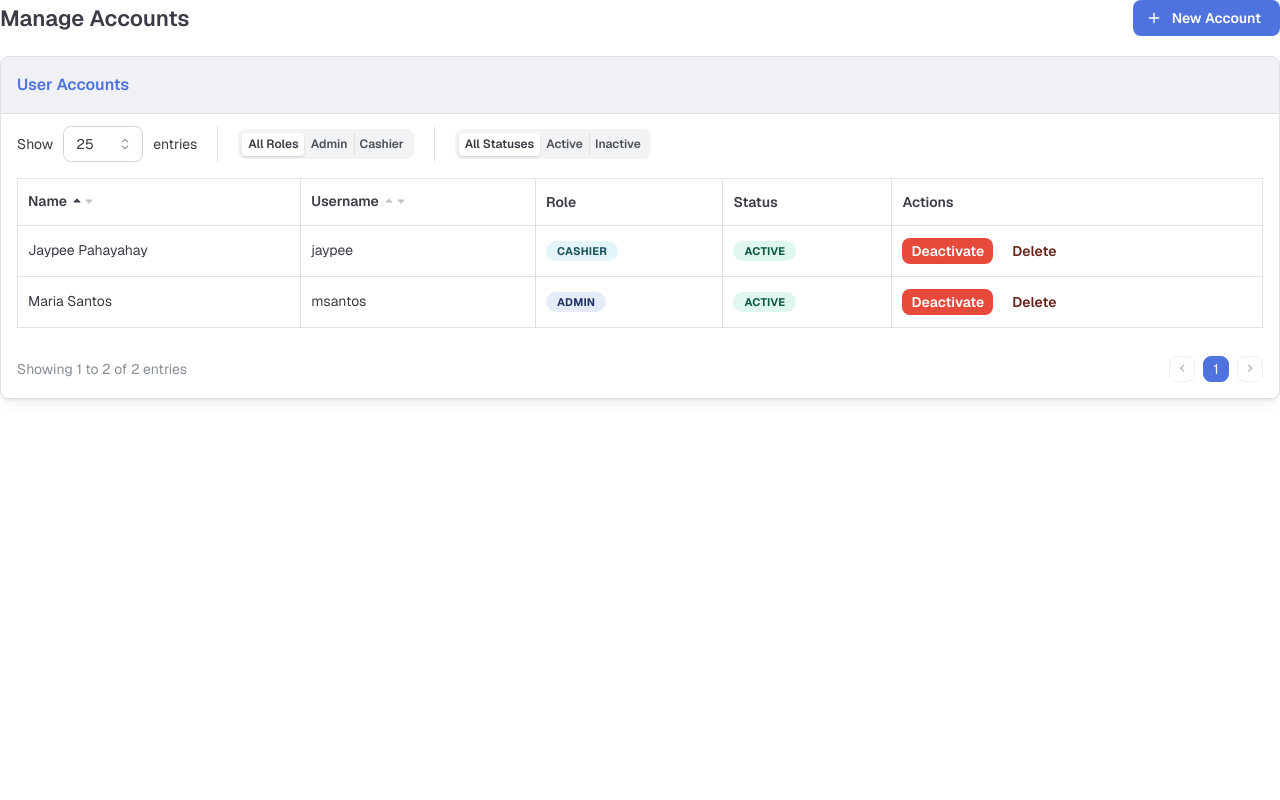
ManageAccountsPage › creates an account with the values entered and shows it in the list
The image size is (1280, 800).
Check: the text "Jaypee Pahayahay" is shown, box 18,225 -> 301,276
Click the button "New Account" at (1206, 18), box 1133,0 -> 1279,36
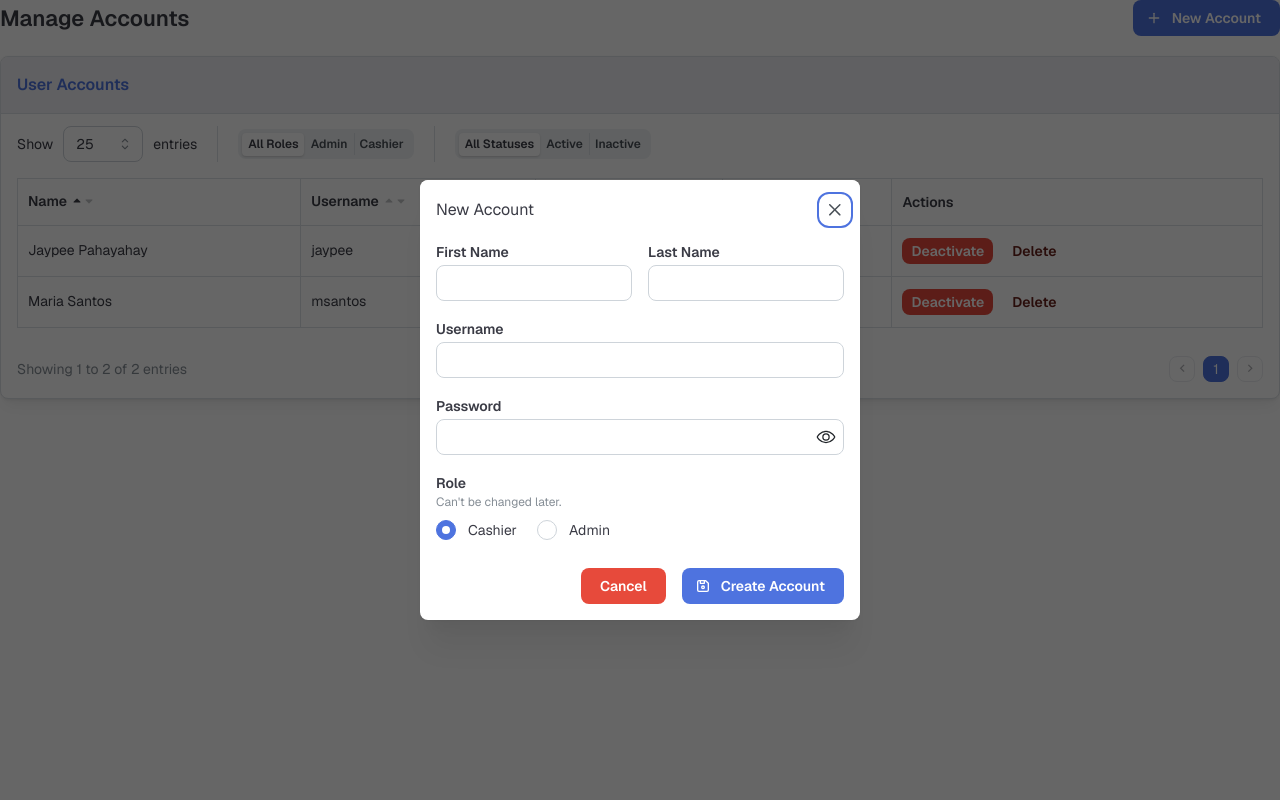
Check: the field labelled "First Name" is shown
Type "Ana" into the field labelled "First Name" at (534, 283), box 436,265 -> 632,301
Type "Reyes" into the field labelled "Last Name" at (746, 283), box 648,265 -> 844,301
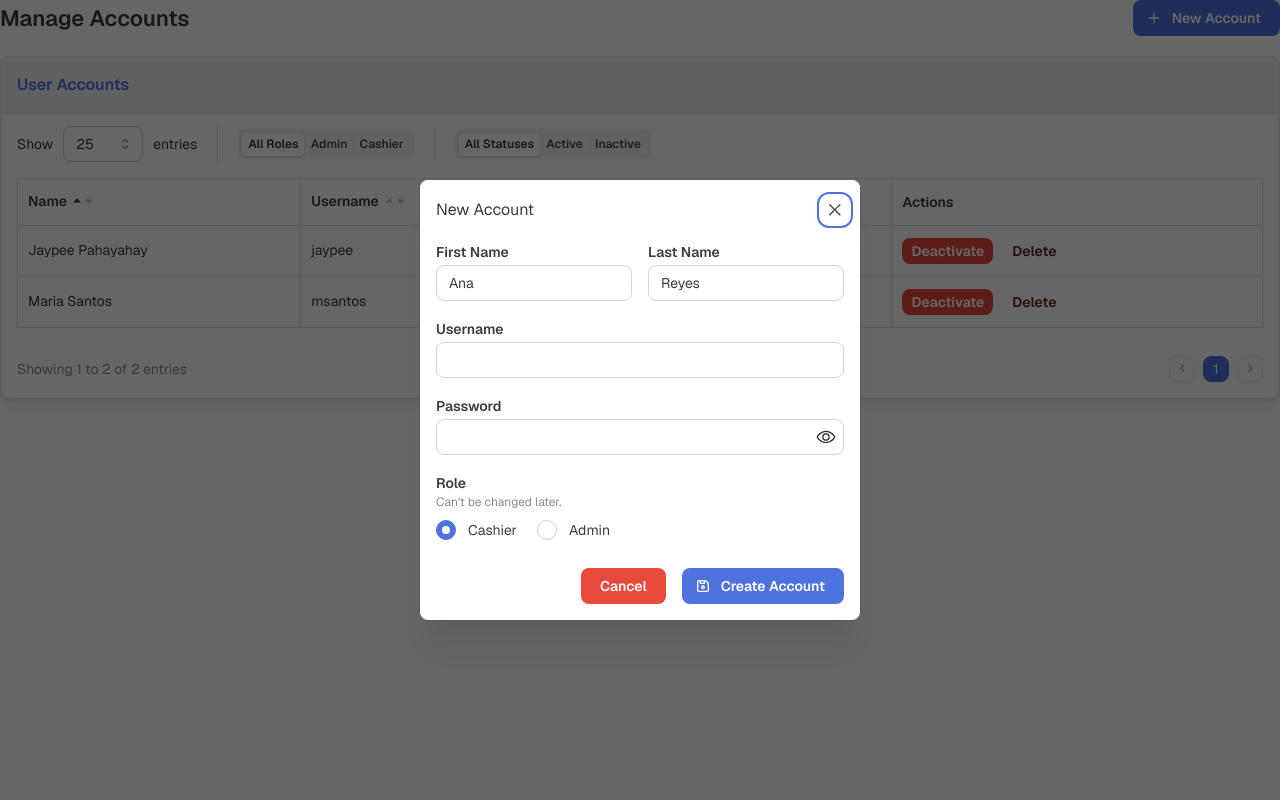
Type "areyes" into the field labelled "Username" at (640, 360), box 436,342 -> 844,378
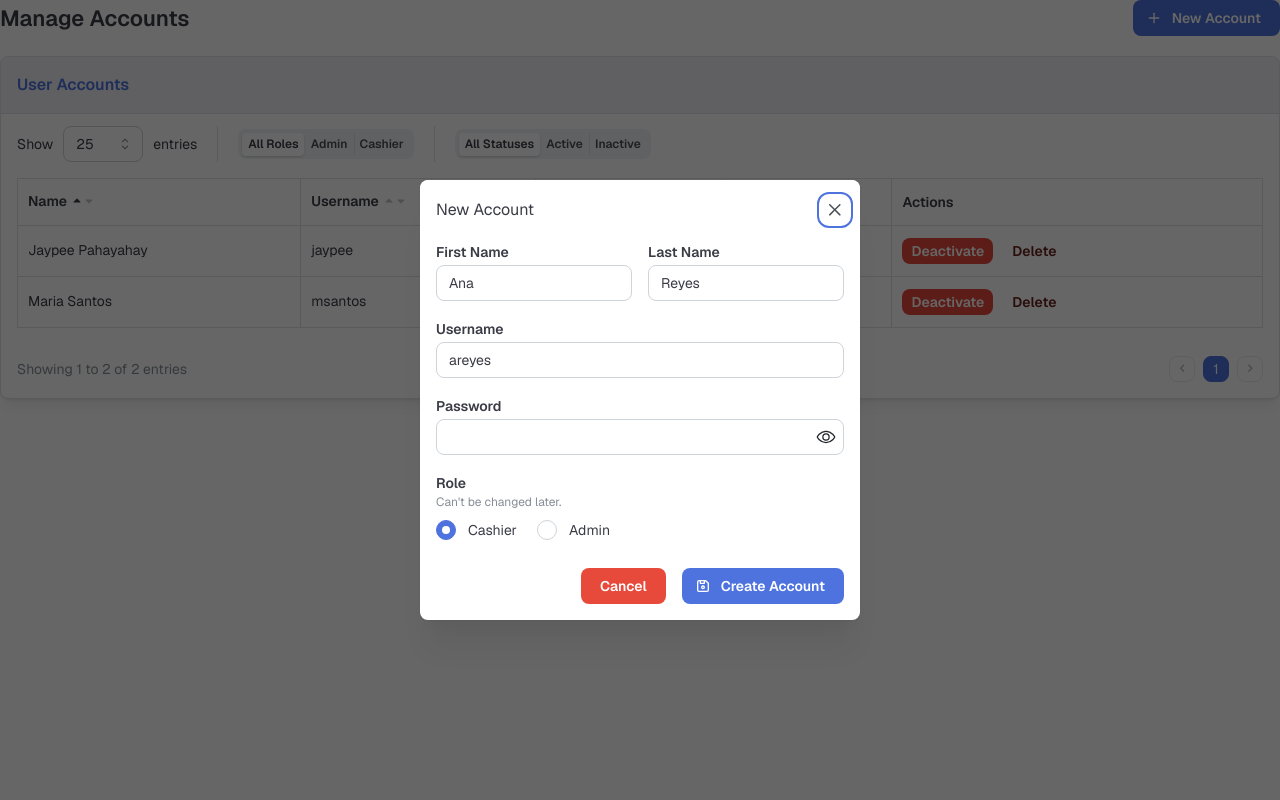
Type "sup3rsecret" into the password field labelled "Password" at (640, 437), box 437,420 -> 843,454
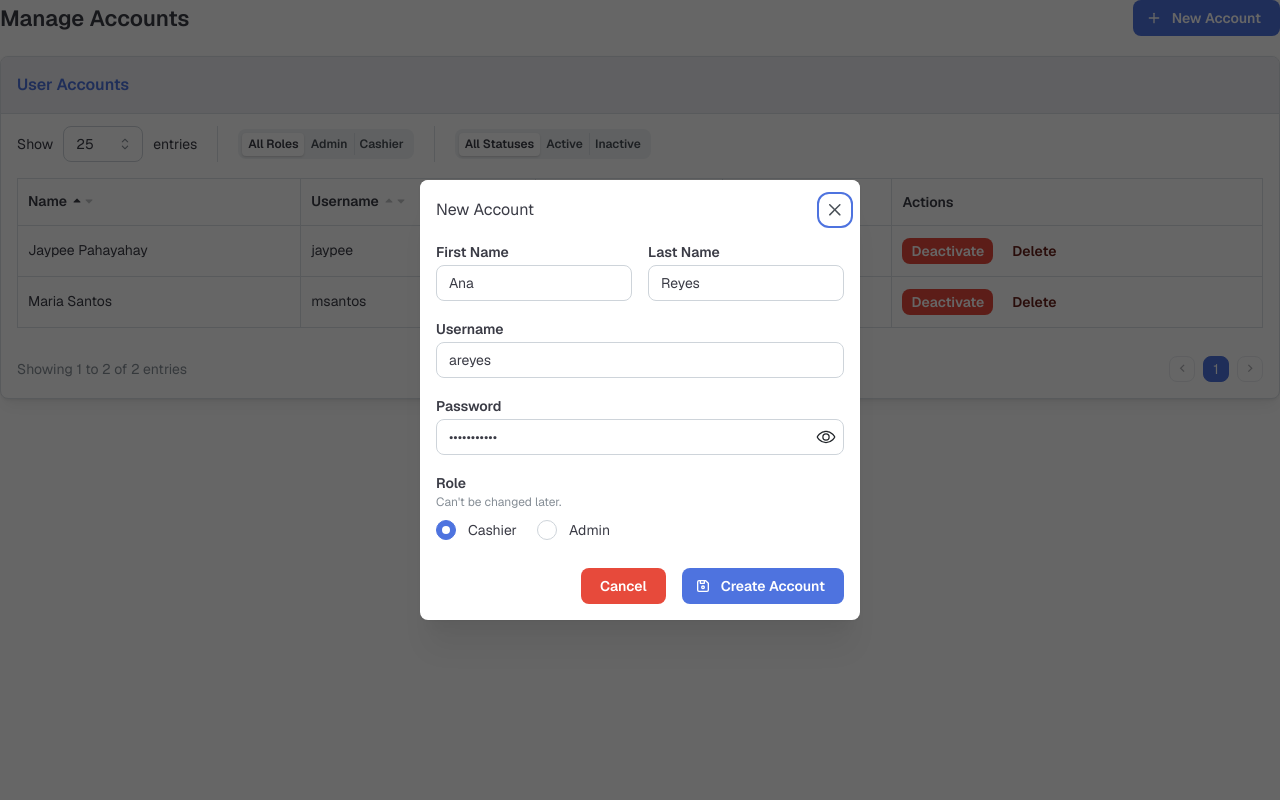
Click the radio button labelled "Admin" at (547, 530), box 537,520 -> 557,540
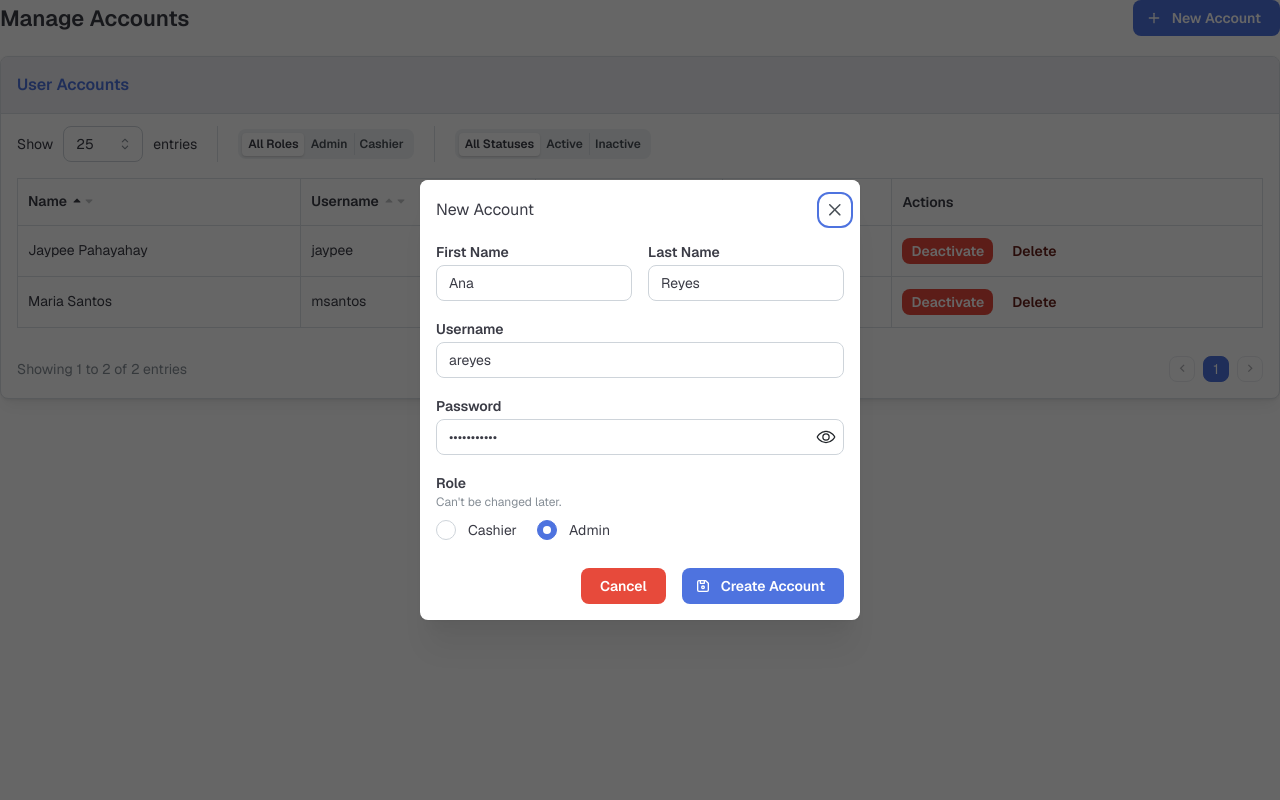
Click the button "Create Account" at (763, 586), box 682,568 -> 844,604
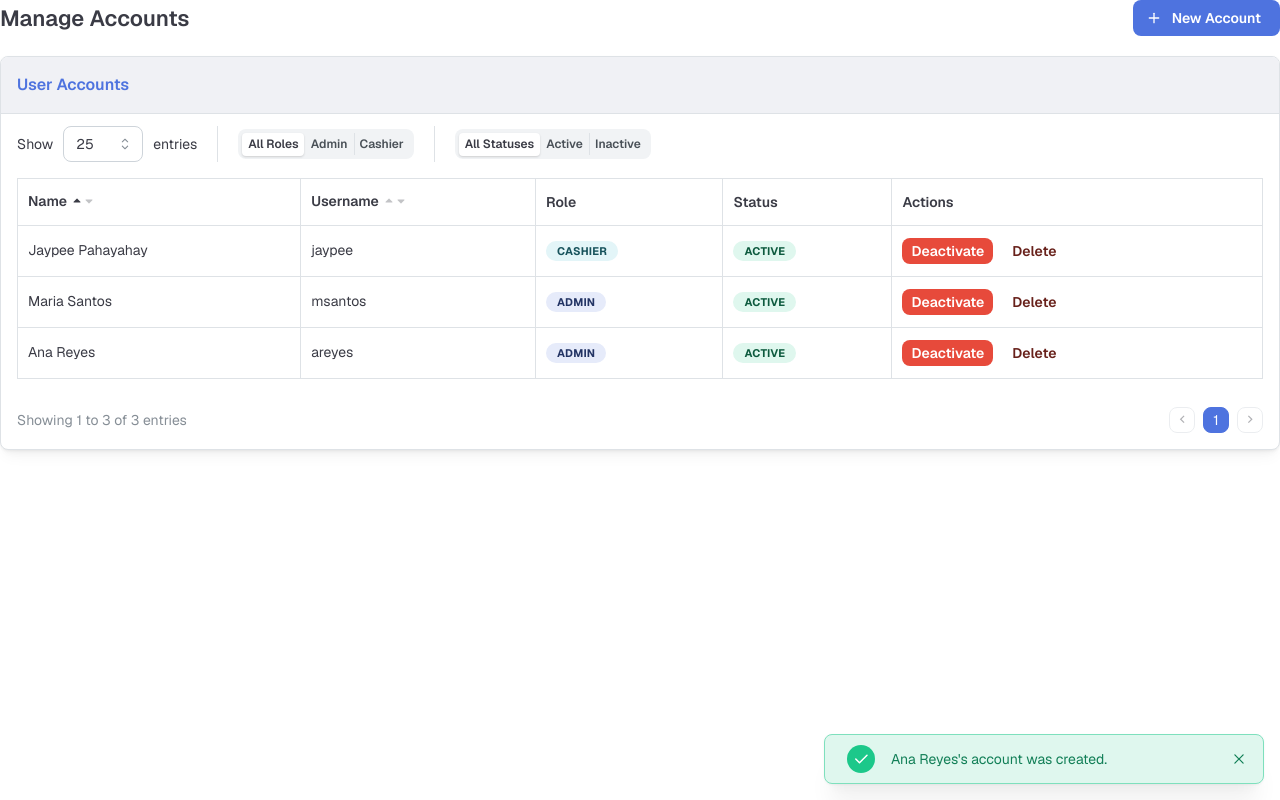
Check: the text "Ana Reyes" is shown, box 18,327 -> 301,378
